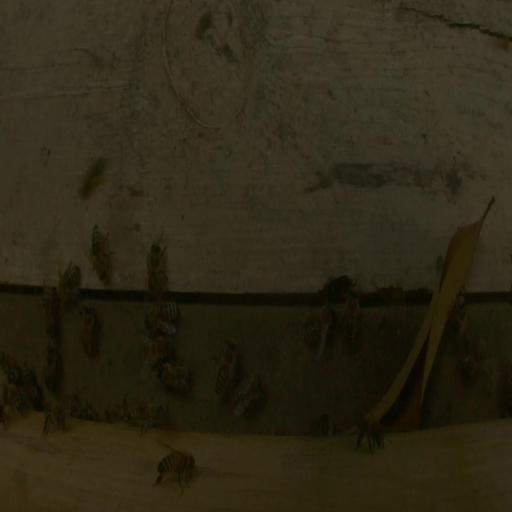bee: (155, 449, 196, 494), (86, 224, 116, 281), (303, 303, 334, 357), (231, 372, 266, 417), (80, 152, 109, 202), (354, 412, 387, 455), (146, 232, 167, 299), (214, 338, 237, 396), (130, 401, 168, 436), (460, 334, 488, 379), (145, 300, 179, 335), (79, 303, 100, 357), (158, 361, 193, 393), (322, 275, 355, 303), (22, 370, 45, 410), (44, 341, 62, 390), (141, 337, 171, 366), (344, 289, 359, 345), (41, 405, 66, 438), (56, 267, 80, 300), (446, 292, 466, 331), (104, 396, 131, 423), (41, 284, 55, 335), (5, 384, 25, 418), (2, 351, 22, 383), (318, 413, 335, 437), (70, 390, 81, 418)
